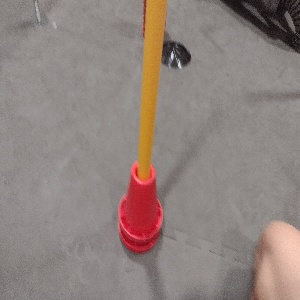Red_2: (113, 158, 164, 254)
